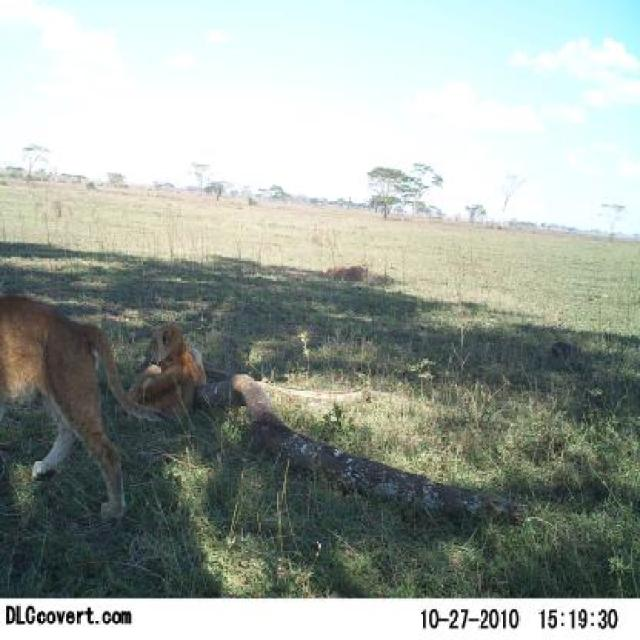Lion: (6, 274, 139, 552), (137, 324, 231, 448)
